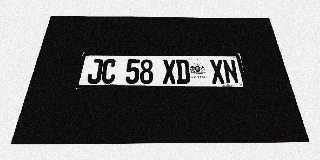5: (125, 59, 140, 84)
8: (139, 59, 153, 84)
C: (101, 59, 117, 84)
D: (176, 59, 190, 84)
J: (86, 59, 103, 84)
N: (222, 60, 239, 84)
X: (209, 59, 226, 84), (163, 59, 176, 84)
